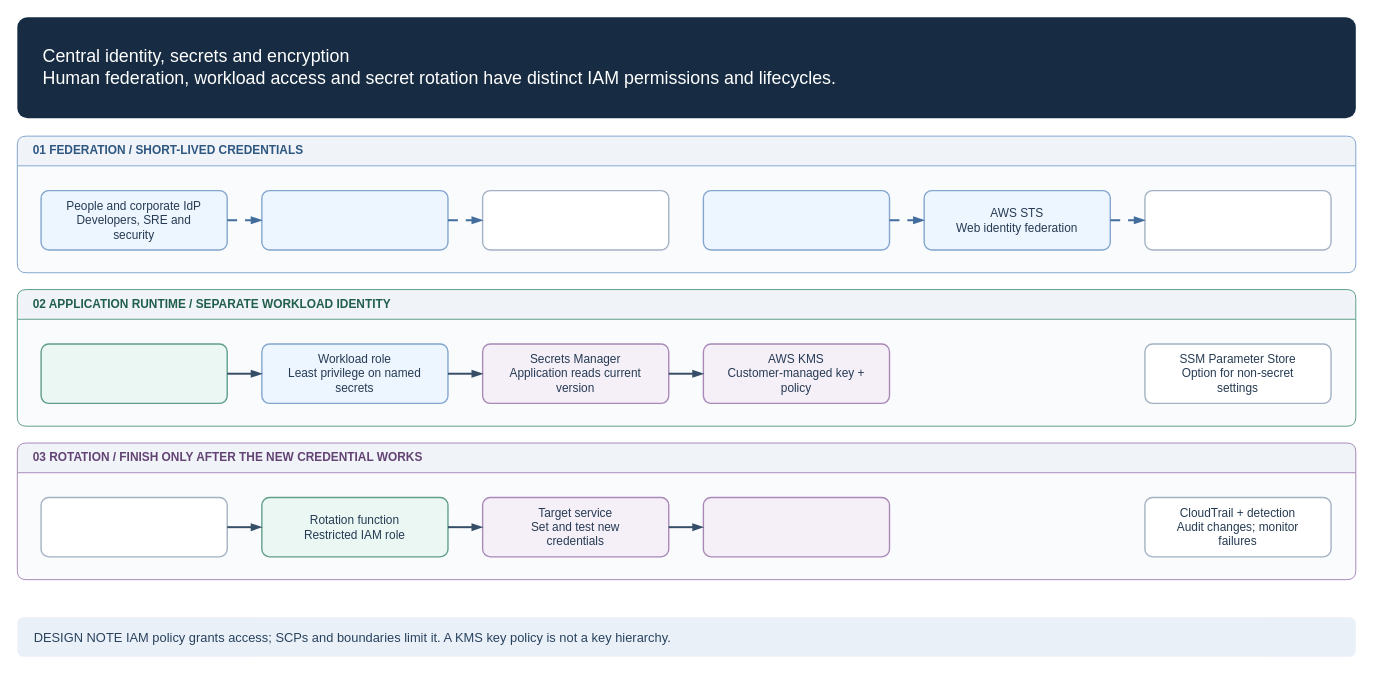
Some shapes in this 1373 by 673 pixel diagram are drawn without their labels. Here are the shapes that lost their labels. From the top down, the centre of each, then its label:
the point at 354,219: IAM Identity Center Federation + permission sets
the point at 575,219: Human role session Scoped account access
the point at 796,219: GitHub Actions OIDC Restricted token trust
the point at 1237,219: CI deployment role Short-lived scoped credentials
the point at 133,373: EKS, ECS, Lambda, EC2 Use a workload-specific role
the point at 133,526: Secrets Manager schedule Triggers rotation
the point at 796,526: Promote version stage Applications refresh credentials
